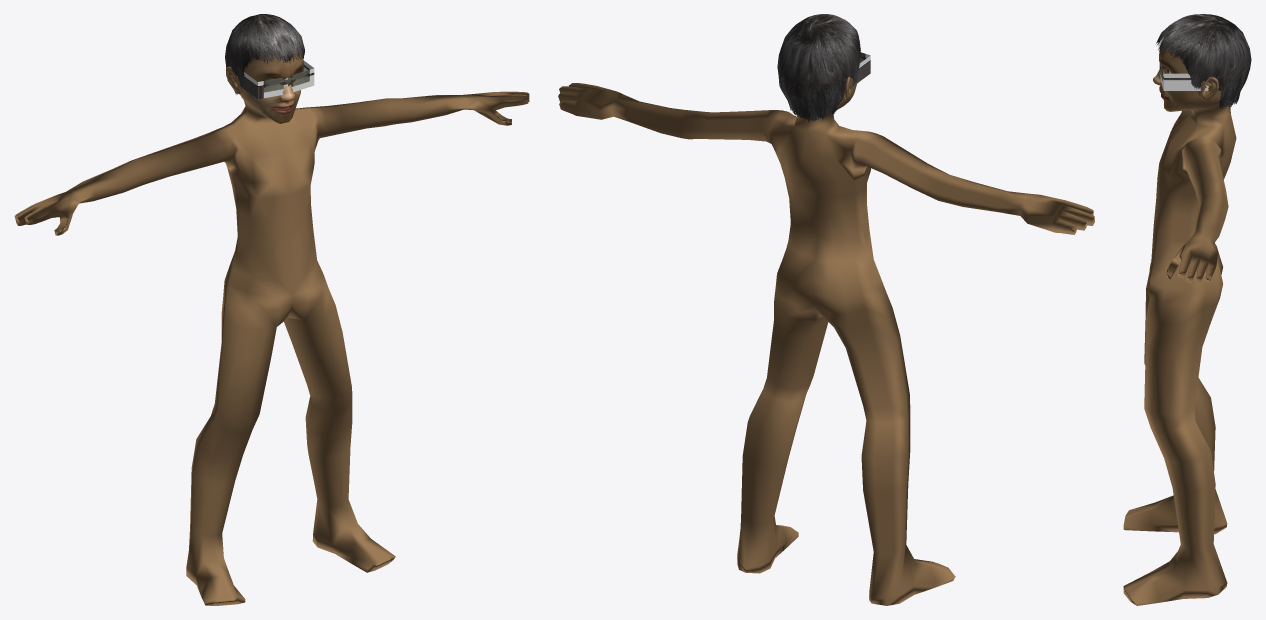
File: i_khoa1_sp.dae
The picture shows the model from 3 angles, left to right: view 1: azimuth 30°, elevation 25°; view 2: azimuth 150°, elevation 25°; view 3: azimuth 270°, elevation 25°; orthographic projection. The views are drawn at different scales.
Visible parts, largest first — view 1: khoaSkin, hair, glasses; view 2: khoaSkin, hair; view 3: khoaSkin, hair, glasses.
Part boxes in pixels (x1,y1,x2,y2): khoaSkin: (14, 44, 529, 605); hair: (225, 14, 304, 94); glasses: (235, 60, 314, 99); khoaSkin: (558, 76, 1094, 605); hair: (777, 14, 860, 122); khoaSkin: (1123, 34, 1236, 605); hair: (1156, 14, 1251, 108); glasses: (1159, 63, 1220, 90).
Size of the model in its own units: 5.21 by 5.24 by 1.12.
